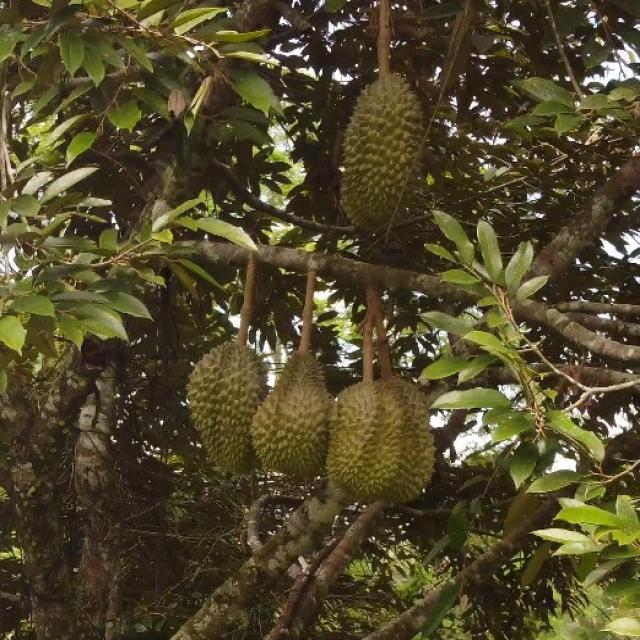immature: (336, 71, 422, 226), (186, 342, 268, 476), (253, 352, 336, 478), (327, 373, 400, 504), (369, 379, 439, 510)
